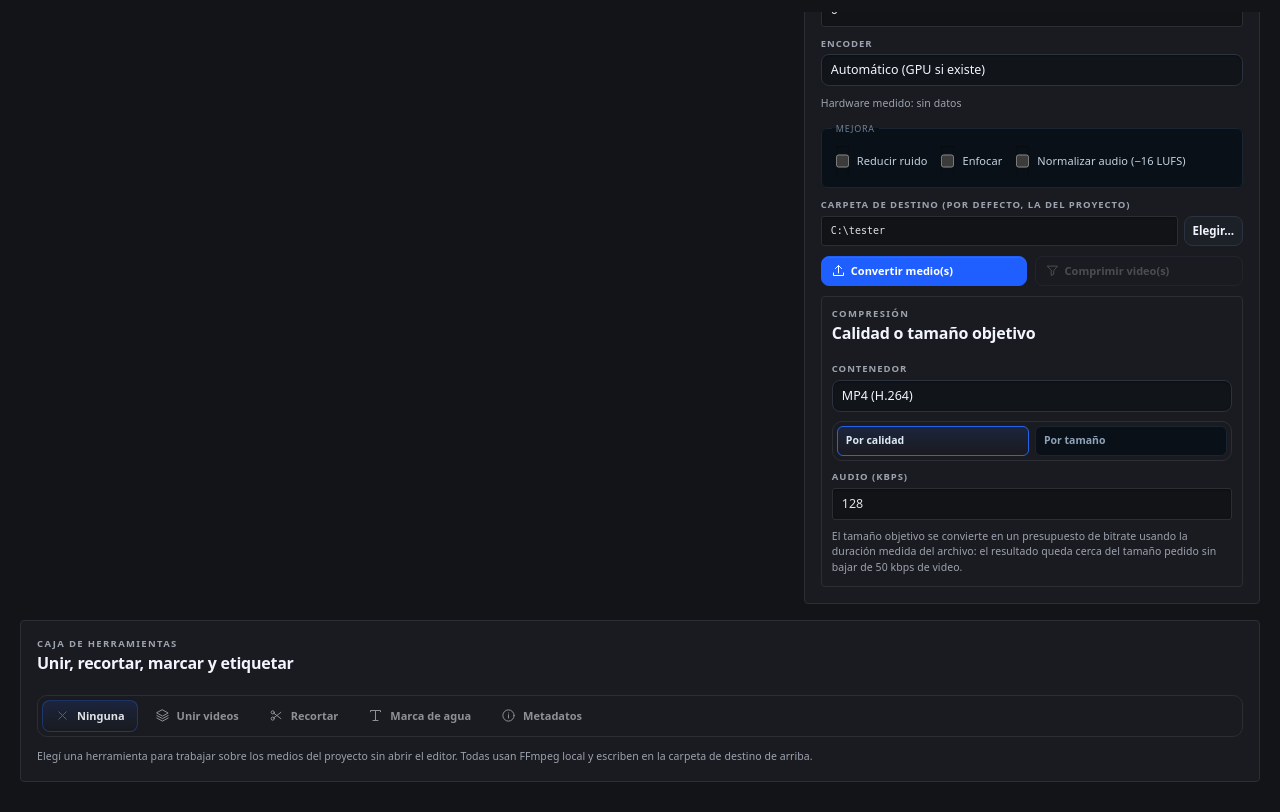
ConvertView · caja de herramientas › la pestaña Recortar pide video y tiempos
(page scrolled)
What coordinates should you click on to do the following:
click the tab "Recortar"
I would click on:
 (304, 716)
Its box is x1=256 y1=700 x2=351 y2=732.
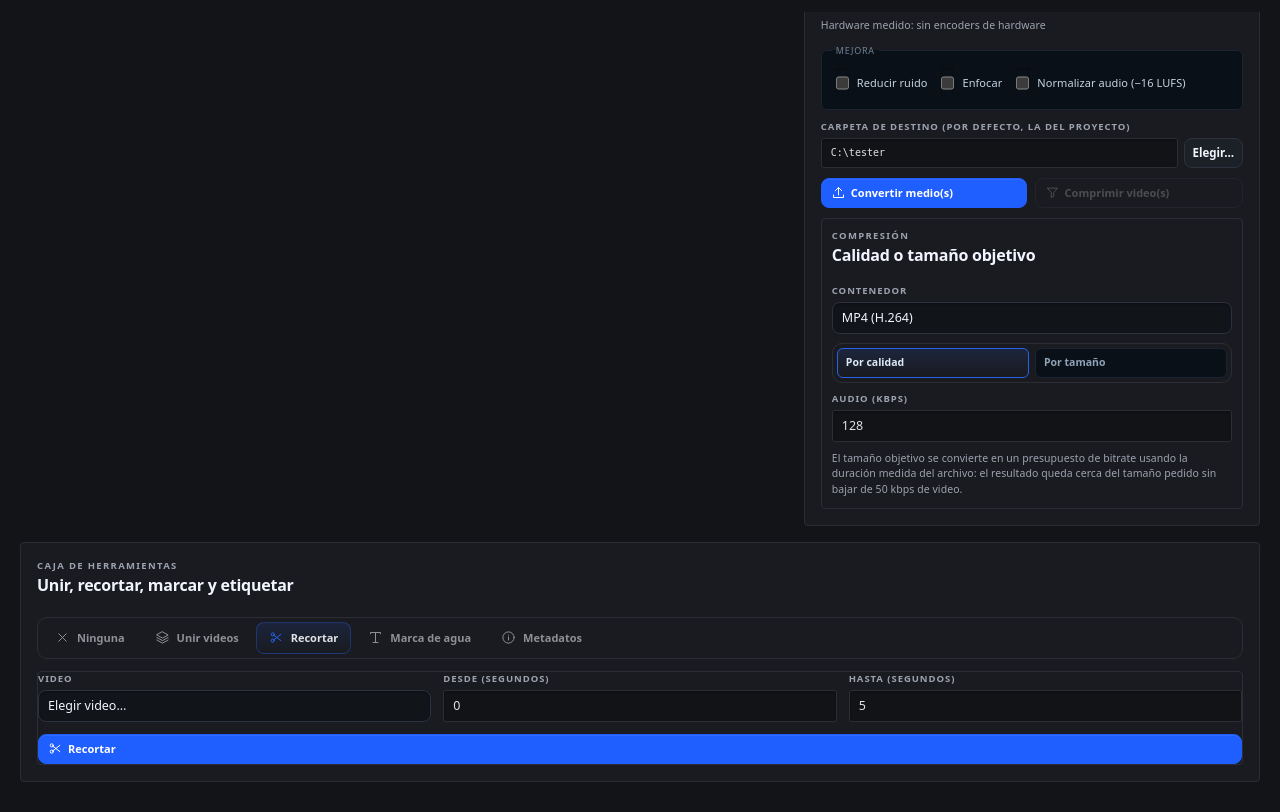
Expected: the number field labelled "Desde (segundos)" is shown, x1=443 y1=690 x2=837 y2=722
Expected: the button "Recortar" is disabled, x1=38 y1=734 x2=1242 y2=764
